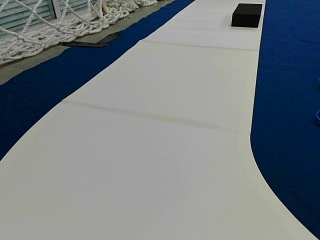block: (231, 2, 263, 27)
